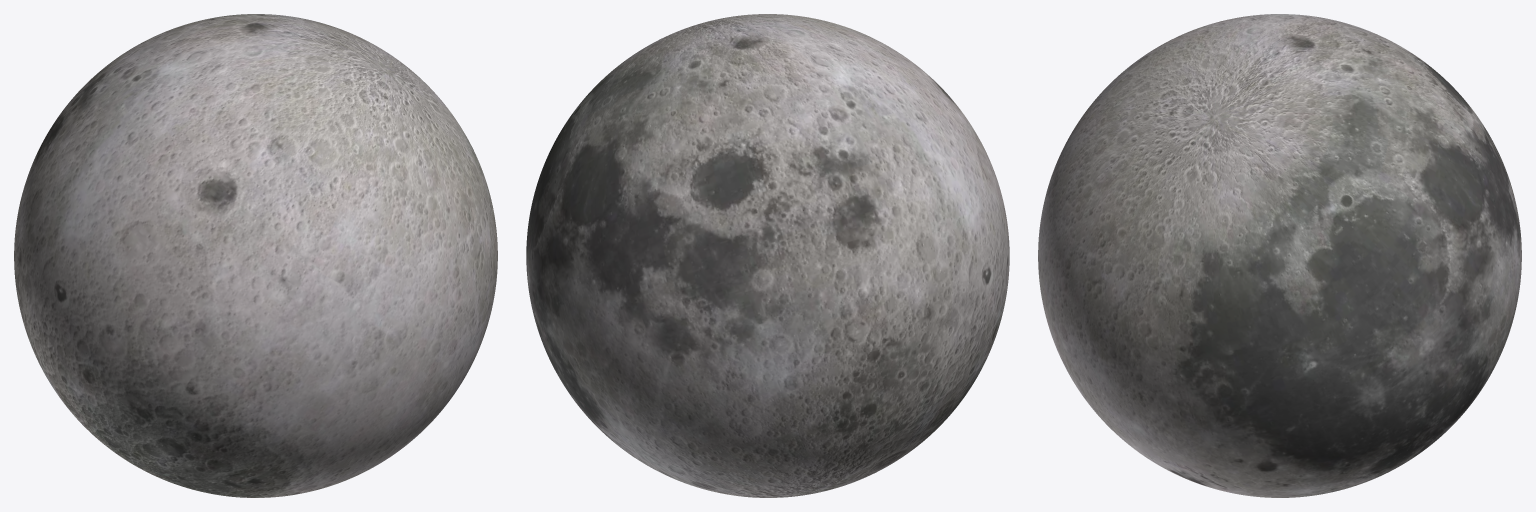
The model's file is moon-lo.glb.
The picture shows the model from 3 angles, left to right: view 1: azimuth 30°, elevation 25°; view 2: azimuth 150°, elevation 25°; view 3: azimuth 270°, elevation 25°; orthographic projection.
Visible parts, largest first — view 1: Sphere; view 2: Sphere; view 3: Sphere.
Boxes of the visible parts, x1=… form: Sphere: x1=14, y1=14, x2=497, y2=497; Sphere: x1=526, y1=14, x2=1009, y2=497; Sphere: x1=1038, y1=14, x2=1521, y2=497.
Bounding box in the file's own units: 2 × 2 × 2.
Materials: 1 (1 with a texture image).
